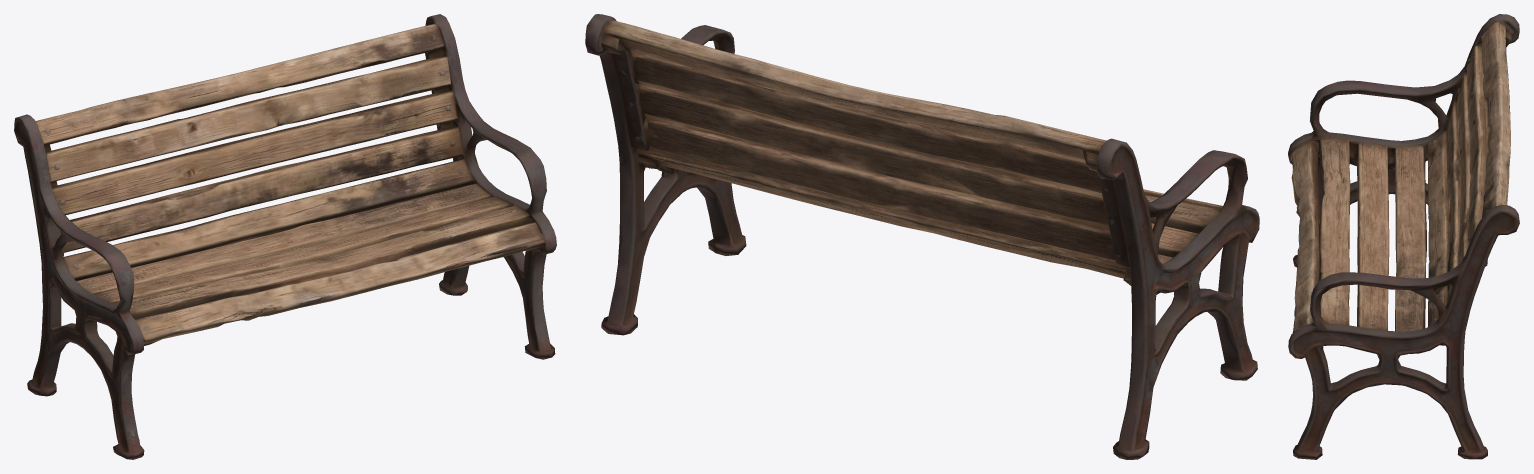
File: bench_wood.glb
3 views of the same model, side by side, from view 1: azimuth 30°, elevation 25°; view 2: azimuth 150°, elevation 25°; view 3: azimuth 270°, elevation 25° (orthographic). The views are drawn at different scales.
Visible parts, largest first — view 1: tripo_node_96b8c6cb-6436-4b6b-bbdd-57cc42524127; view 2: tripo_node_96b8c6cb-6436-4b6b-bbdd-57cc42524127; view 3: tripo_node_96b8c6cb-6436-4b6b-bbdd-57cc42524127.
Boxes of the visible parts, x1,y1,x2,y2 form: tripo_node_96b8c6cb-6436-4b6b-bbdd-57cc42524127: (14,14,556,459); tripo_node_96b8c6cb-6436-4b6b-bbdd-57cc42524127: (585,14,1259,459); tripo_node_96b8c6cb-6436-4b6b-bbdd-57cc42524127: (1288,14,1519,459).
Size of the model in its own units: 1 by 0.575 by 0.4867.
Materials: 1 (1 with a texture image).
